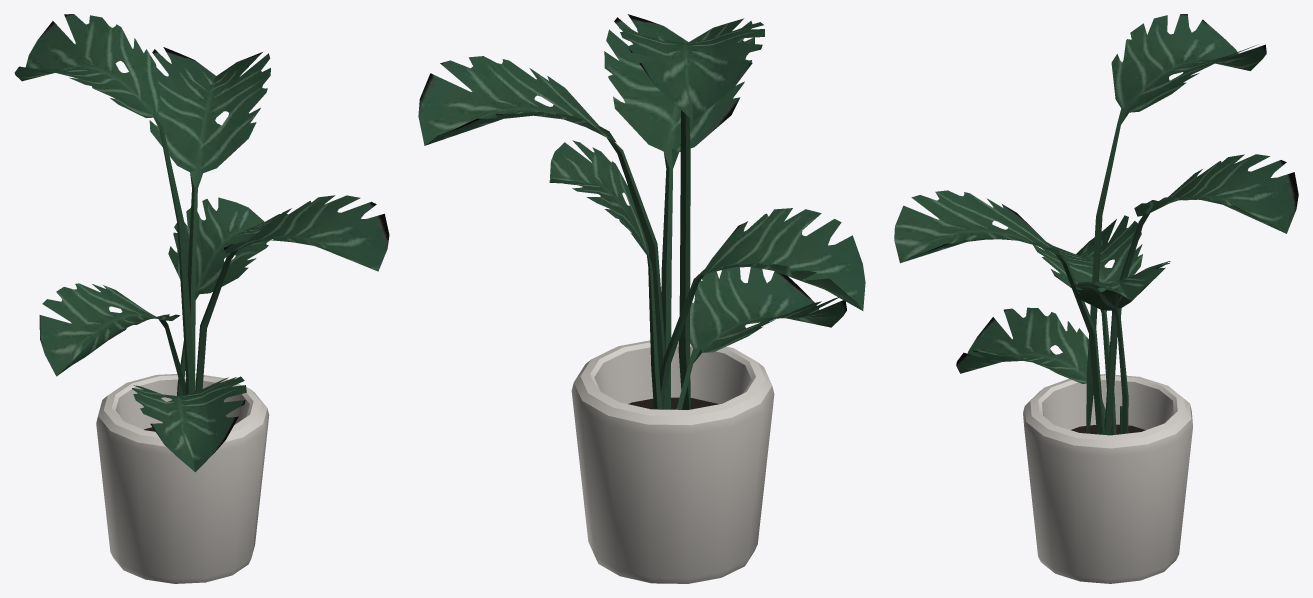
Rendered from potted-plant.gltf.
3 renders of one model, left to right at view 1: azimuth 30°, elevation 25°; view 2: azimuth 150°, elevation 25°; view 3: azimuth 270°, elevation 25°, orthographic. The views are drawn at different scales.
Visible parts, largest first — view 1: Cylinder.003; view 2: Cylinder.003; view 3: Cylinder.003.
Part boxes in pixels (x1=…): Cylinder.003: x1=14, y1=14, x2=389, y2=583; Cylinder.003: x1=418, y1=14, x2=865, y2=583; Cylinder.003: x1=894, y1=14, x2=1298, y2=583.
Size of the model in its own units: 0.6796 by 1.11 by 0.8202.
3 materials, 1 textured.
